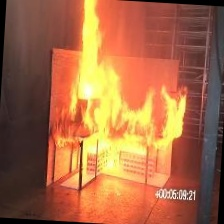fire: (54, 0, 194, 183)
